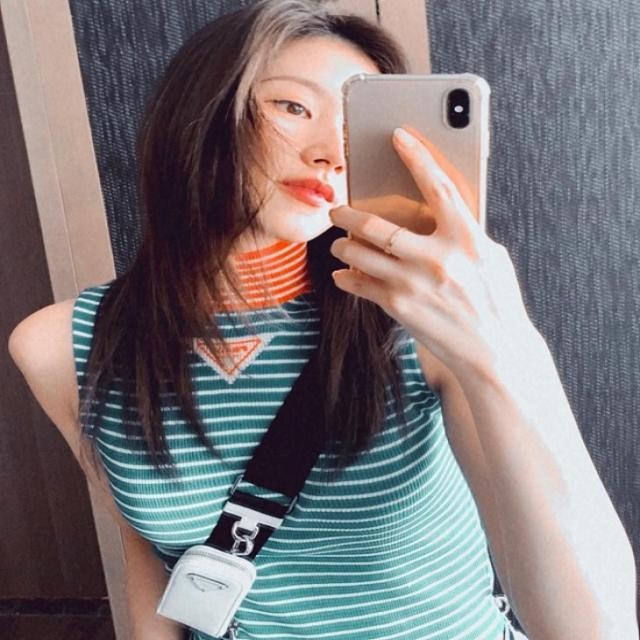phone: (342, 74, 488, 302)
